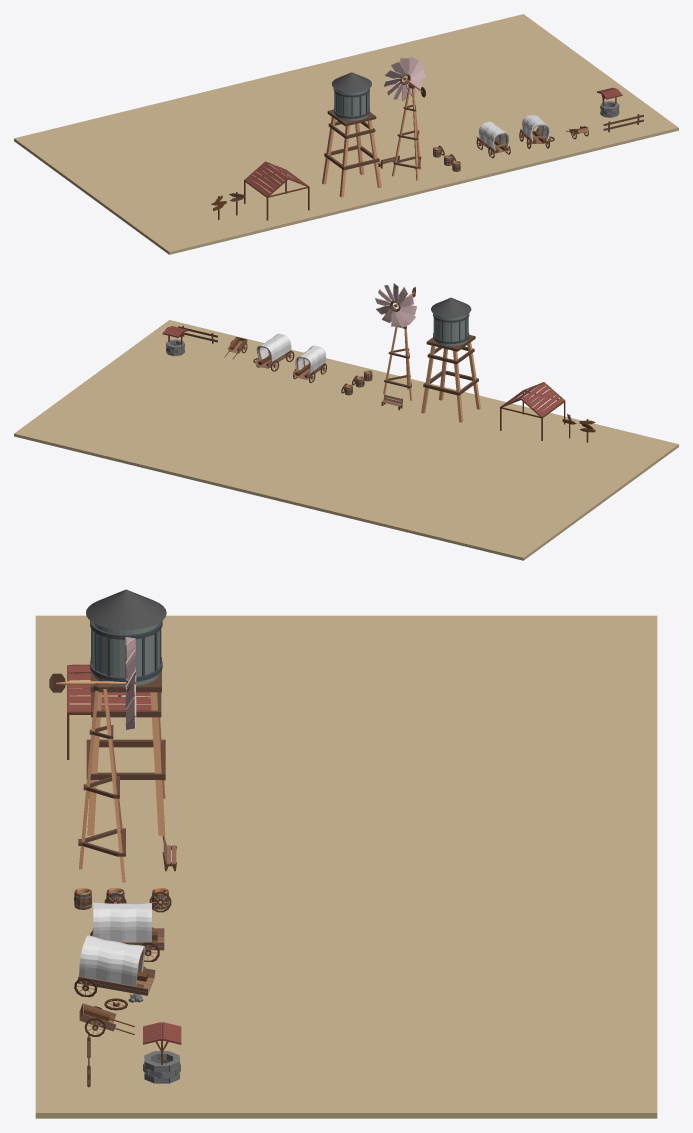
The model's file is Cowboy Anderes.fbx.
3 views of the same model, one above another, from view 1: azimuth 30°, elevation 25°; view 2: azimuth 150°, elevation 25°; view 3: azimuth 270°, elevation 25° (orthographic). The views are drawn at different scales.
Visible parts, largest first — view 1: Cube.003, Cylinder, Cube.001, Cube.002, Cylinder.004, Cylinder.003, Cube.006; view 2: Cube.003, Cylinder, Cube.001, Cube.002, Cylinder.003, Cylinder.004, Cube.006; view 3: Cube.003, Cylinder, Cube.001, Cylinder.003, Cylinder.004, Cube.006, Cube.002, Cylinder.001.
Part boxes in pixels (bbox=[...]): Cube.003: bbox=[14, 14, 678, 254]; Cylinder: bbox=[322, 72, 381, 197]; Cube.001: bbox=[384, 56, 425, 180]; Cube.002: bbox=[244, 161, 309, 220]; Cylinder.004: bbox=[476, 121, 510, 158]; Cylinder.003: bbox=[519, 115, 554, 148]; Cube.006: bbox=[597, 87, 622, 117]; Cube.003: bbox=[14, 320, 678, 560]; Cylinder: bbox=[421, 297, 480, 422]; Cube.001: bbox=[375, 283, 416, 400]; Cube.002: bbox=[500, 382, 565, 440]; Cylinder.003: bbox=[253, 333, 294, 371]; Cylinder.004: bbox=[293, 345, 326, 382]; Cube.006: bbox=[162, 326, 188, 356]; Cube.003: bbox=[35, 615, 657, 1118]; Cylinder: bbox=[86, 589, 166, 835]; Cube.001: bbox=[49, 637, 136, 882]; Cylinder.003: bbox=[74, 935, 155, 1010]; Cylinder.004: bbox=[90, 902, 164, 961]; Cube.006: bbox=[143, 1022, 181, 1083]; Cube.002: bbox=[67, 664, 151, 759]; Cylinder.001: bbox=[79, 1003, 134, 1036].
Bounding box in the file's own units: 3491 × 761 × 1844.
